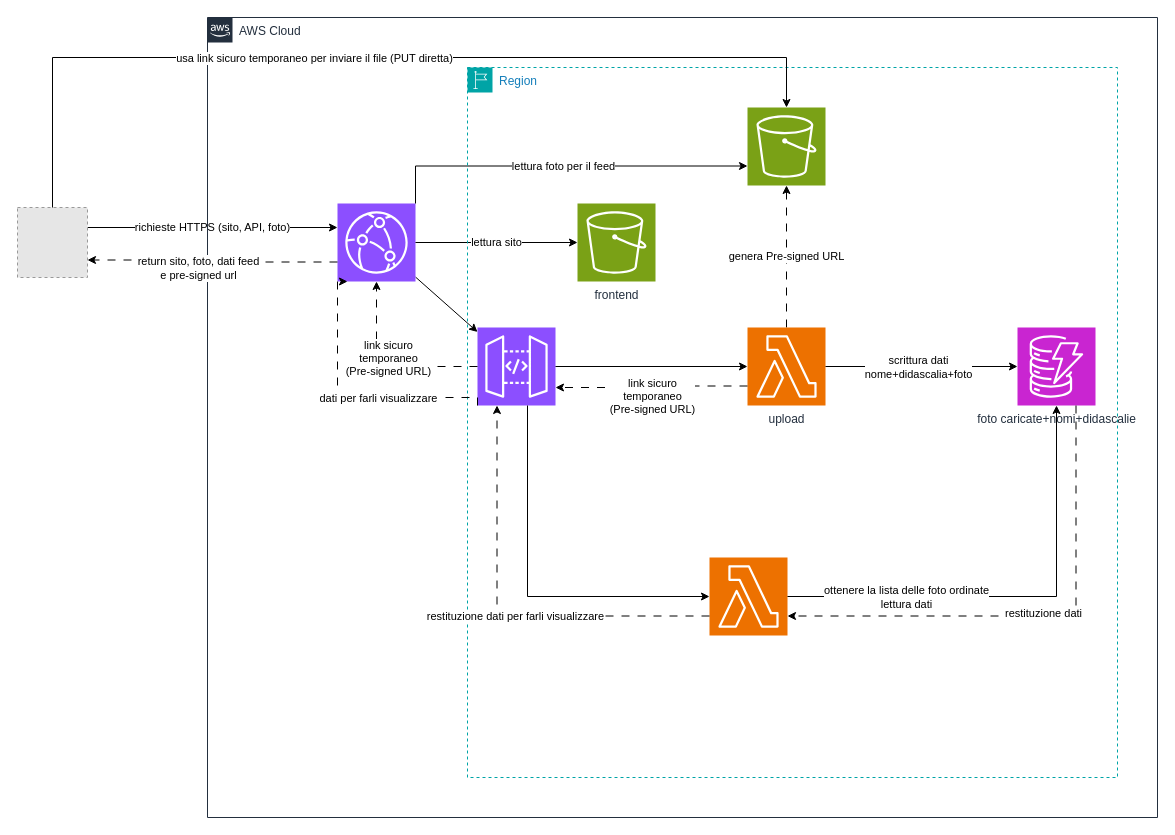
This 1175x835 diagram has some shape labels left out. Grey dashed boxes stand in for pictures. Here are the shapes that lost their labels. From the top down, the centre of each, then its label:
pixel 786 146: foto caricate
pixel 376 242: savethemoment.it
pixel 748 596: feed
